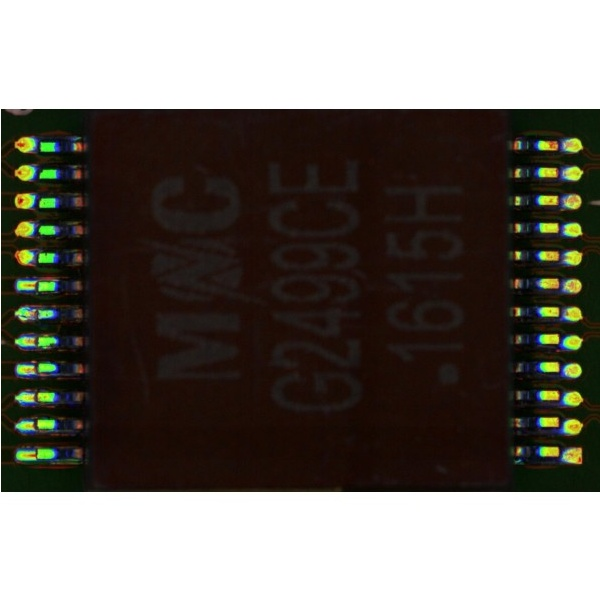Bad_podu: (22, 280, 46, 289), (23, 364, 43, 372), (24, 421, 45, 428), (24, 338, 43, 345), (24, 452, 44, 457), (27, 310, 43, 316)
